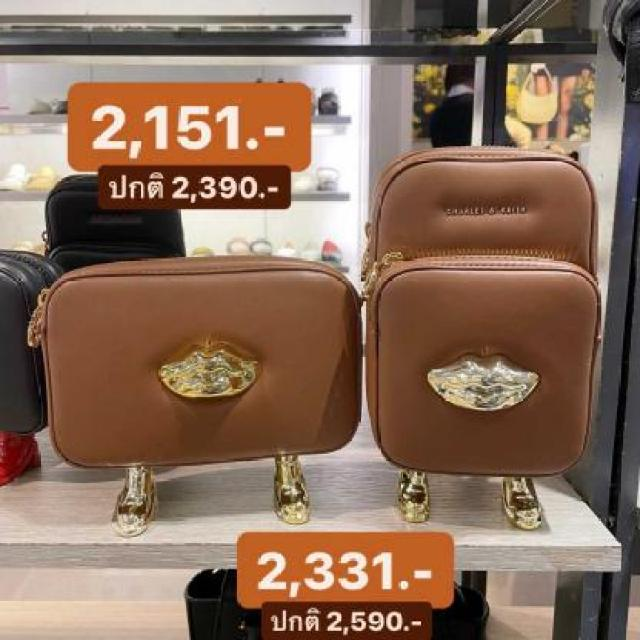Bag: (17, 227, 374, 538), (361, 132, 602, 536)
